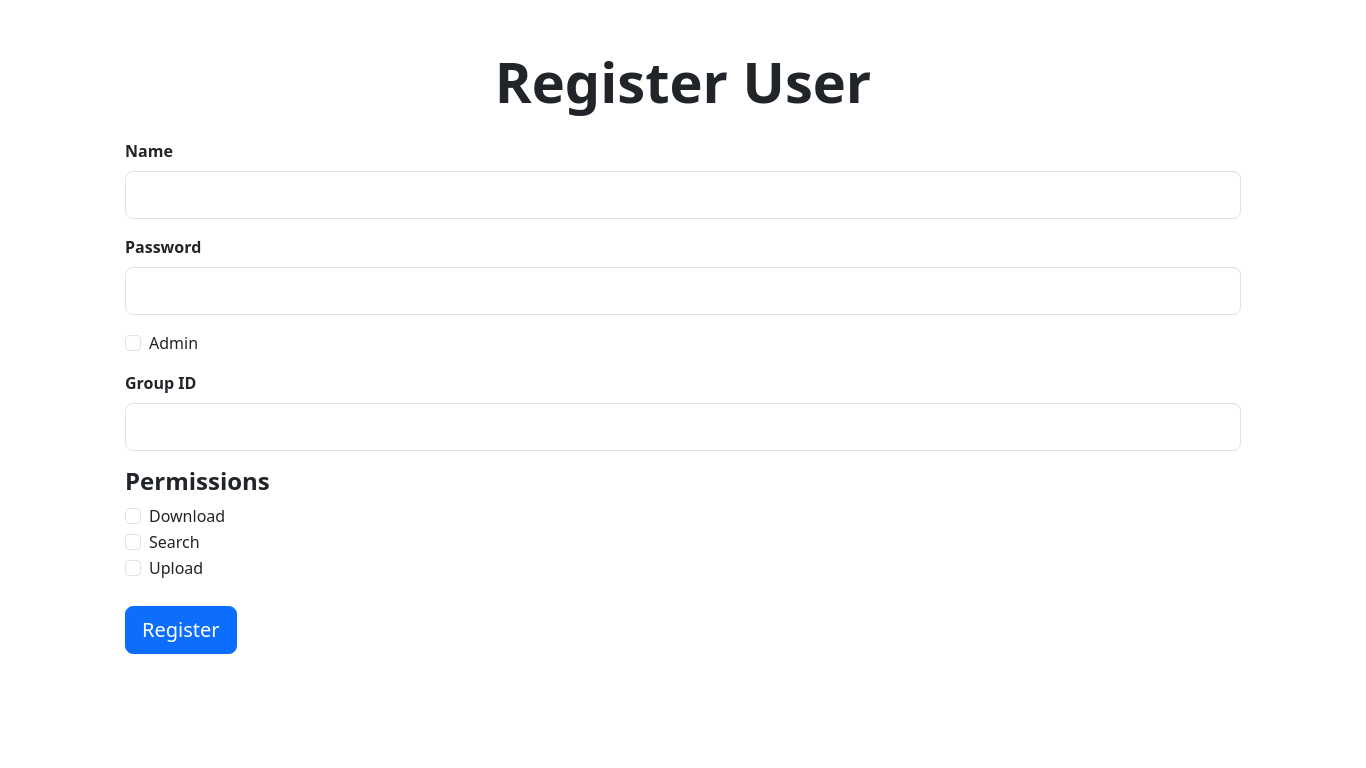
Test: RegisterUser Component › submits the form successfully and resets state
# Fill out the form
Type "John Doe" into the field labelled "Name" at (683, 195), box [125,171,1241,219]
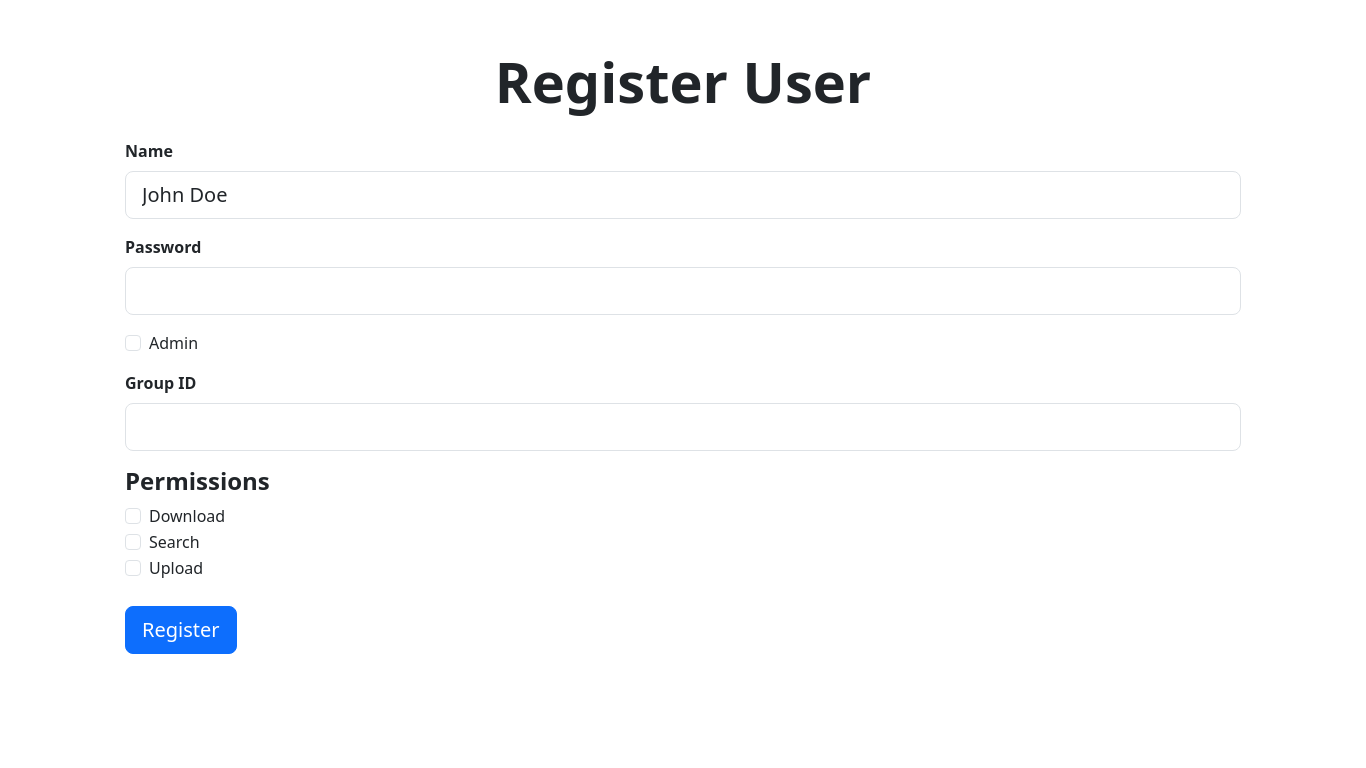
Type "securePassword" into the password field labelled "Password" at (683, 291), box [125,267,1241,315]
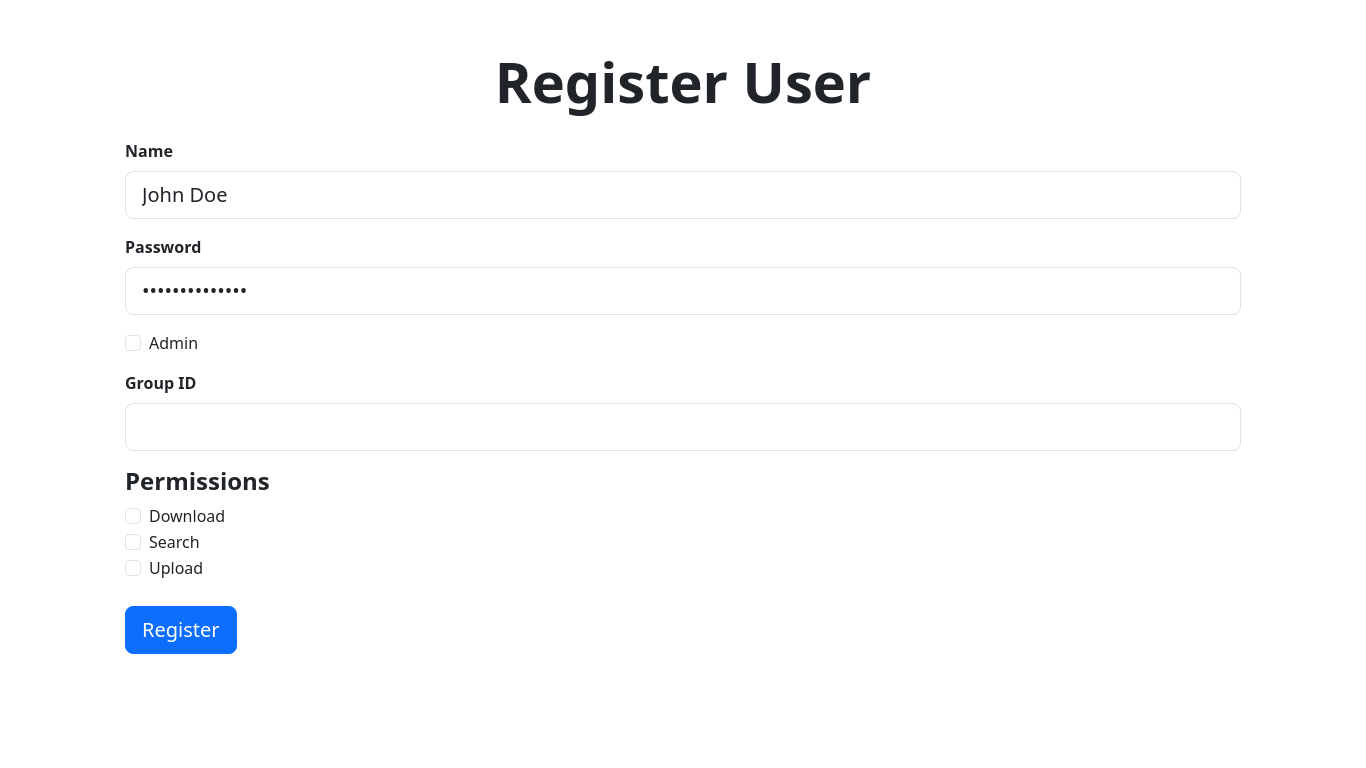
Type "12" into the number field labelled "Group ID" at (683, 427), box [125,403,1241,451]
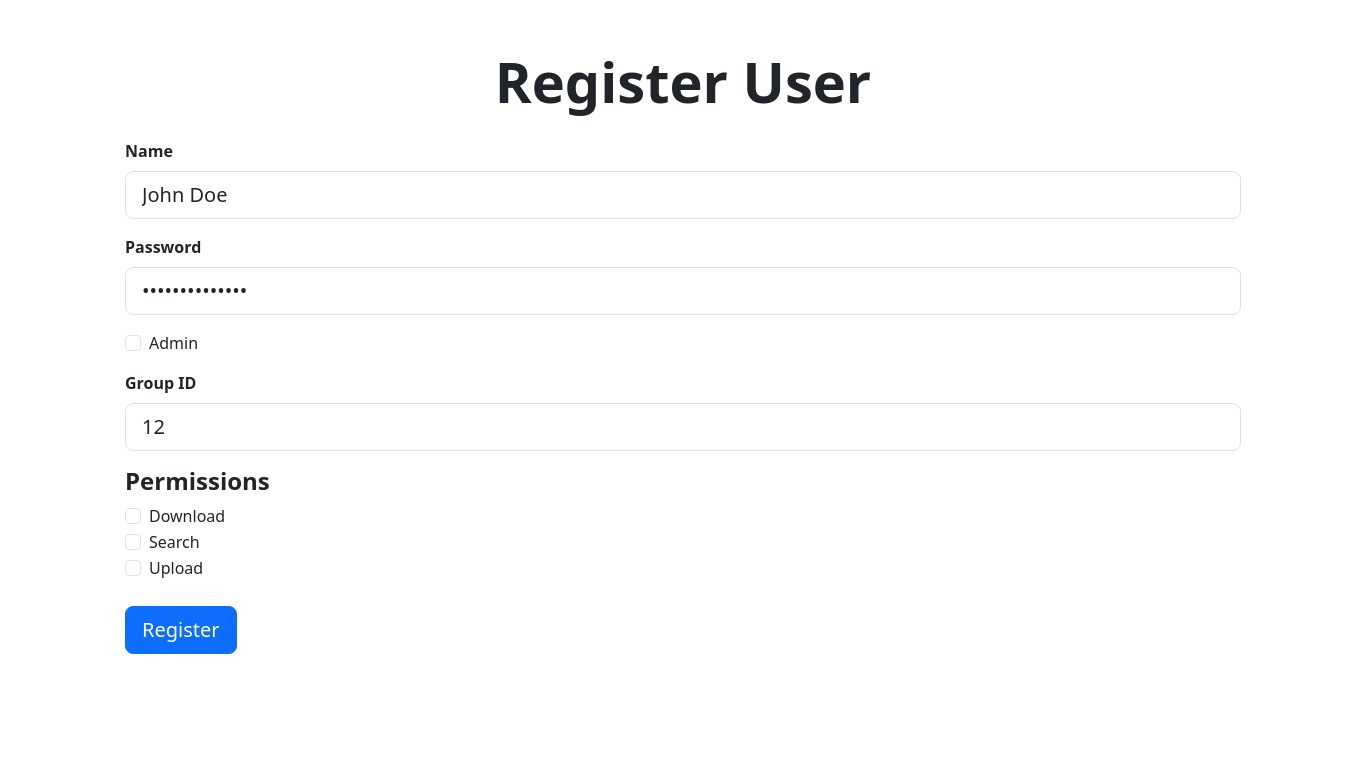
Click the checkbox labelled "Admin" at (133, 343), box [125,335,141,351]
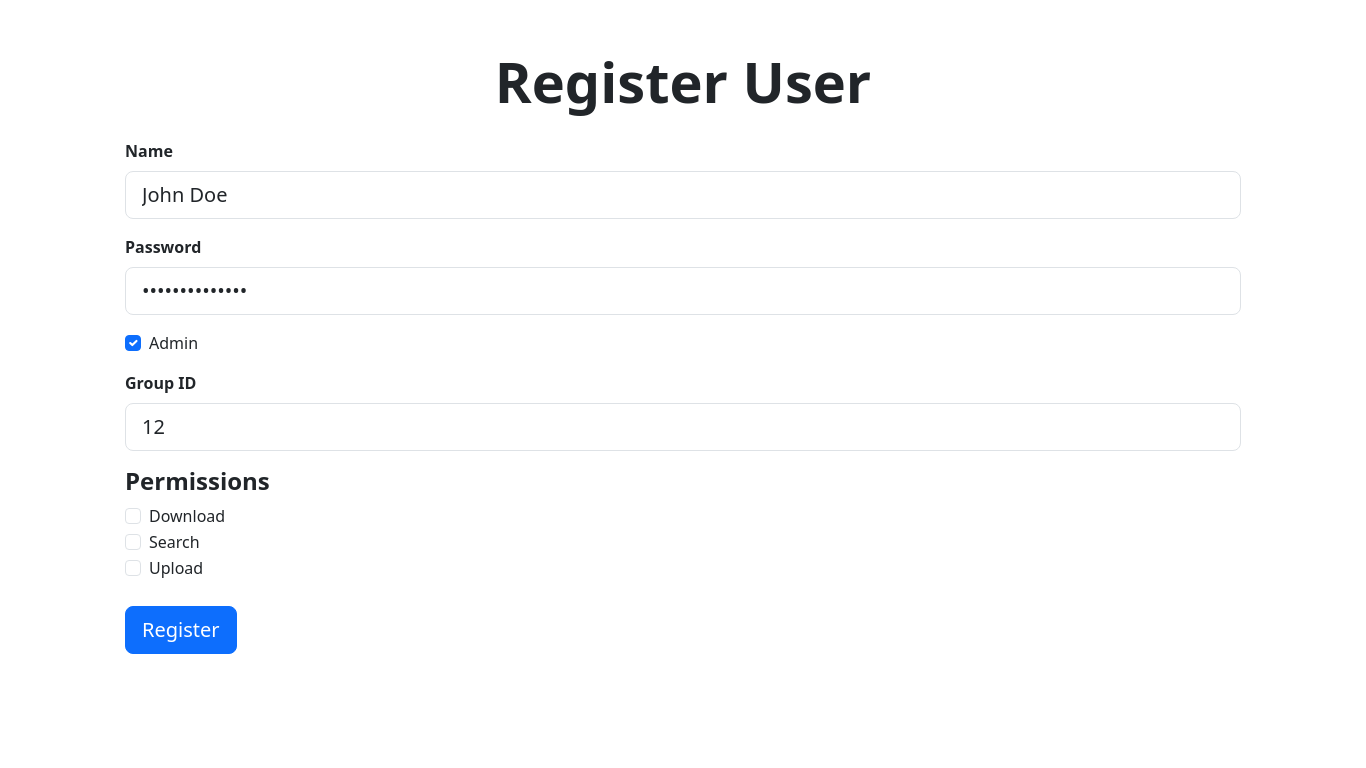
Click the checkbox labelled "Upload" at (133, 568), box [125,560,141,576]
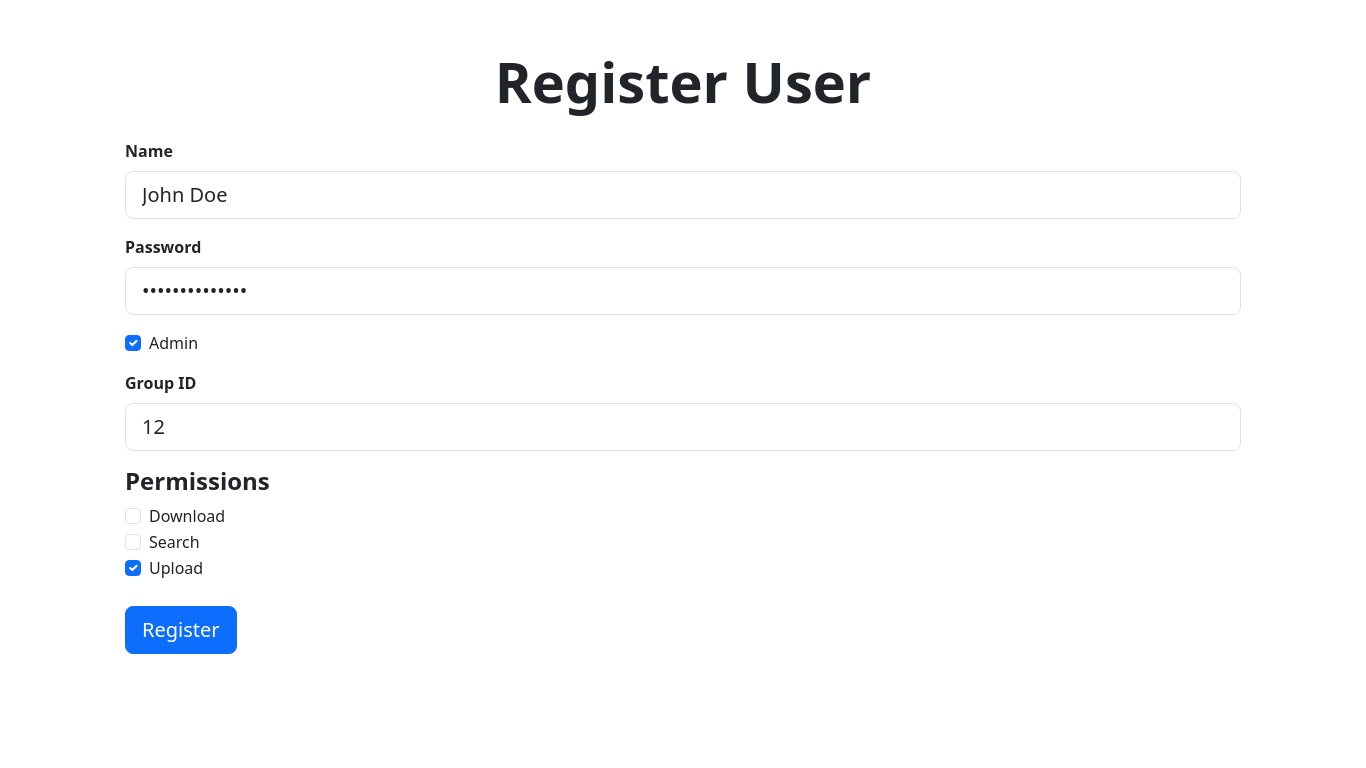
# Submit the form
Click the button "Register" at (181, 630), box [125,606,236,654]
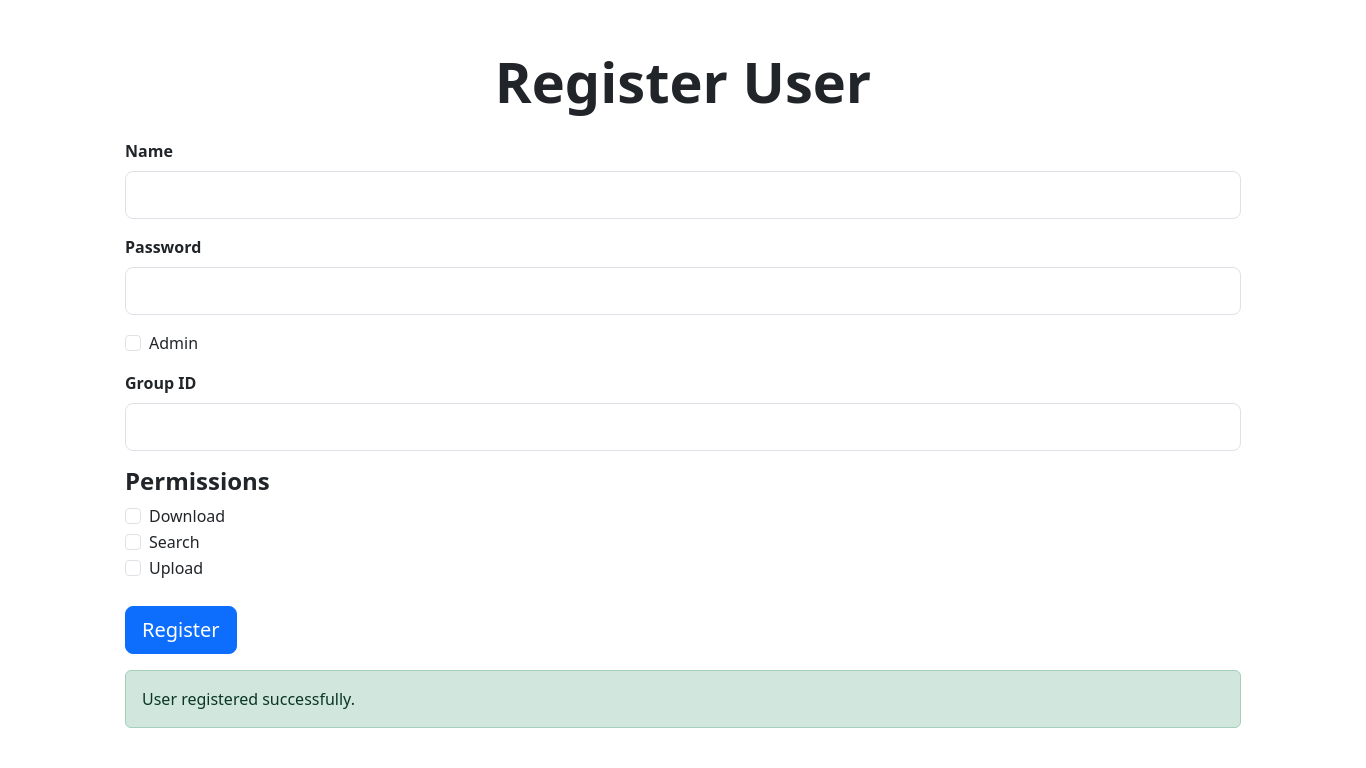
Now the message reads "User registered successfully.", box [142,688,355,710]
Now the field labelled "Name" is empty, box [125,171,1241,219]
Now the password field labelled "Password" is empty, box [125,267,1241,315]
